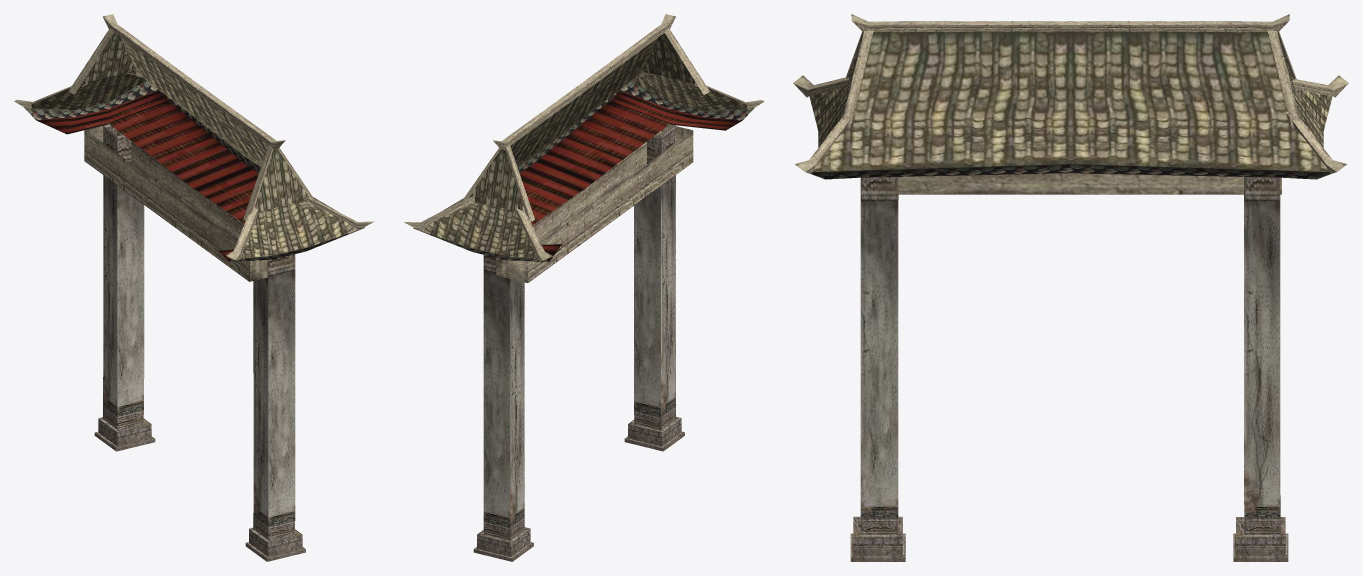
File: door17.obj
3 renders of one model, left to right at view 1: azimuth 30°, elevation 25°; view 2: azimuth 150°, elevation 25°; view 3: azimuth 270°, elevation 25°, orthographic. The views are drawn at different scales.
Parts seen in each view (by area): view 1: door17; view 2: door17; view 3: door17.
Part boxes in pixels (x1=…): door17: x1=14, y1=14, x2=374, y2=561; door17: x1=404, y1=14, x2=764, y2=561; door17: x1=793, y1=14, x2=1348, y2=561.
Bounding box in the file's own units: 146 × 387 × 369.
